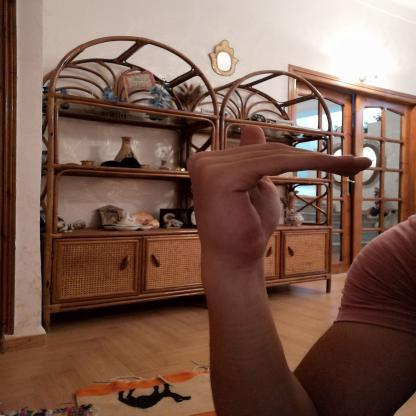KHAA: (163, 115, 395, 272)
